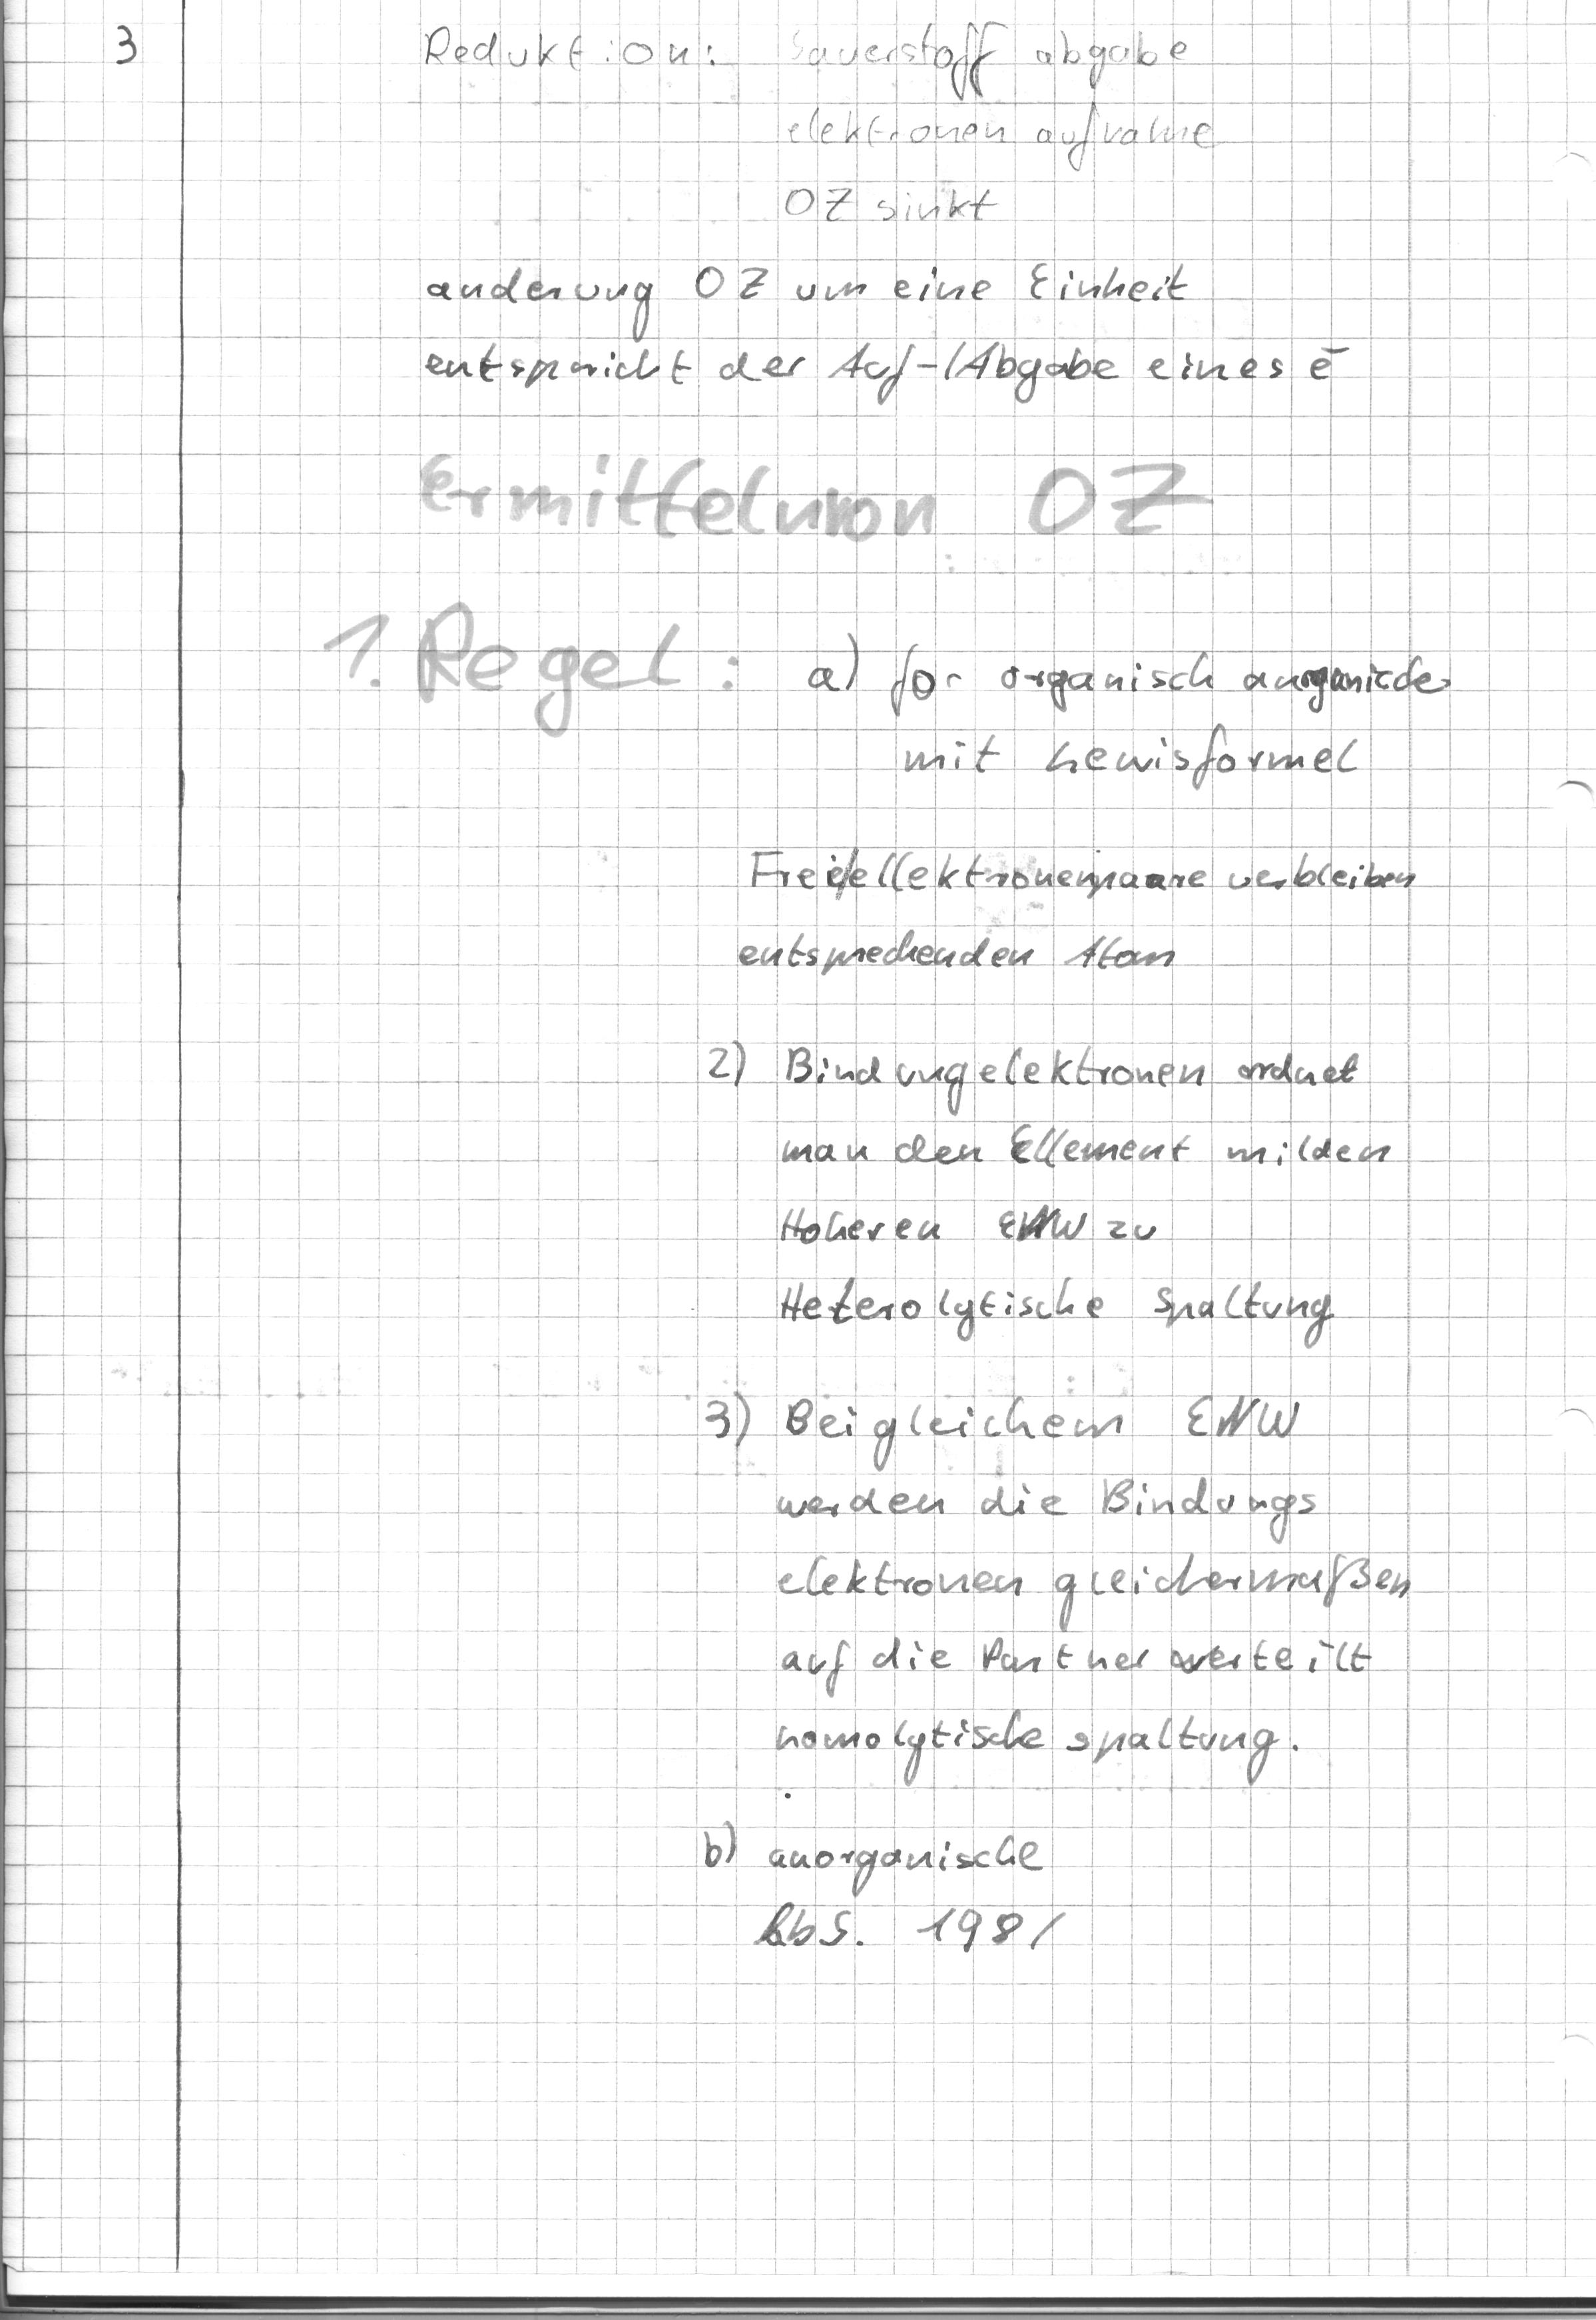word: (770, 1377, 1415, 1785), (776, 1026, 1394, 1350), (416, 240, 1354, 413), (798, 621, 1458, 798), (721, 834, 1428, 990), (665, 1785, 1087, 1978), (668, 1366, 761, 1464), (686, 1023, 772, 1111)
